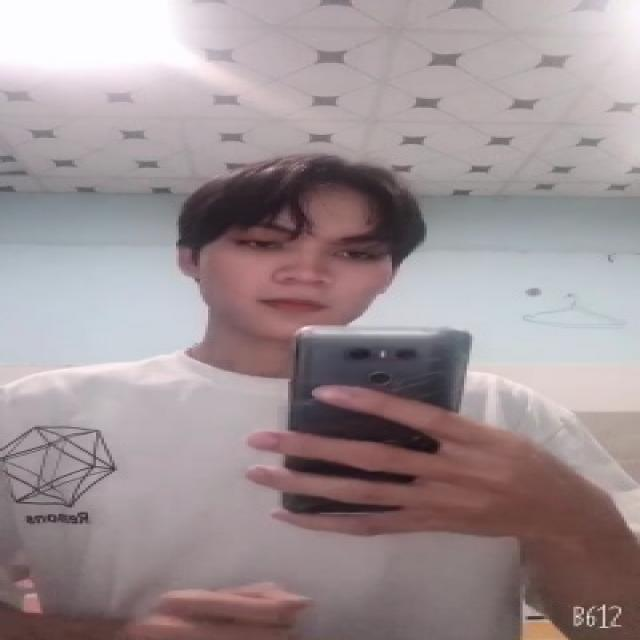Phone: (280, 325, 476, 507)
